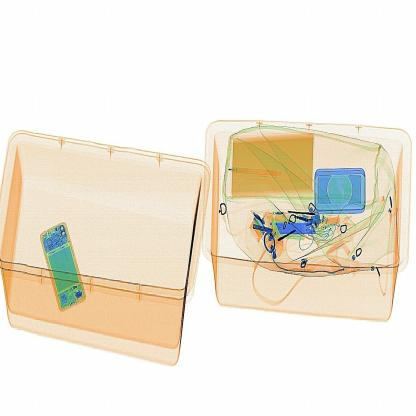pliers: (274, 212, 330, 247)
